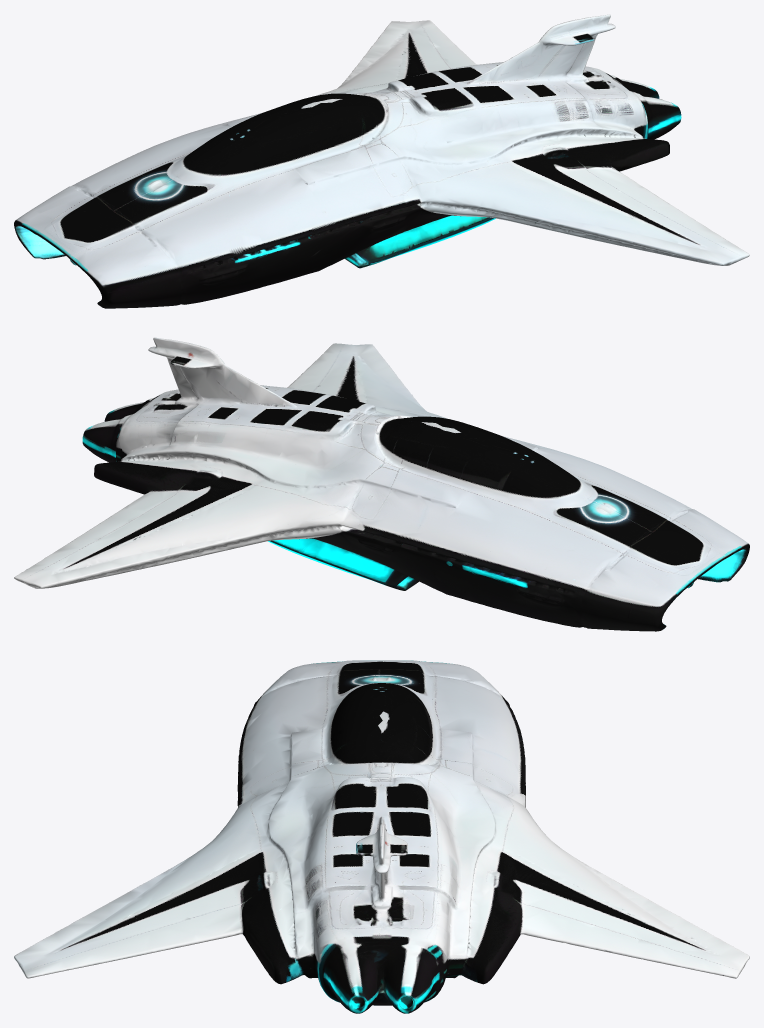
Rendered from wyber-ship.glb.
3 views of the same model, one above another, from view 1: azimuth 30°, elevation 25°; view 2: azimuth 150°, elevation 25°; view 3: azimuth 270°, elevation 25° (orthographic). The views are drawn at different scales.
Bounding box in the file's own units: 1.91 × 0.4838 × 1.79.
Materials: 1 (1 with a texture image).
